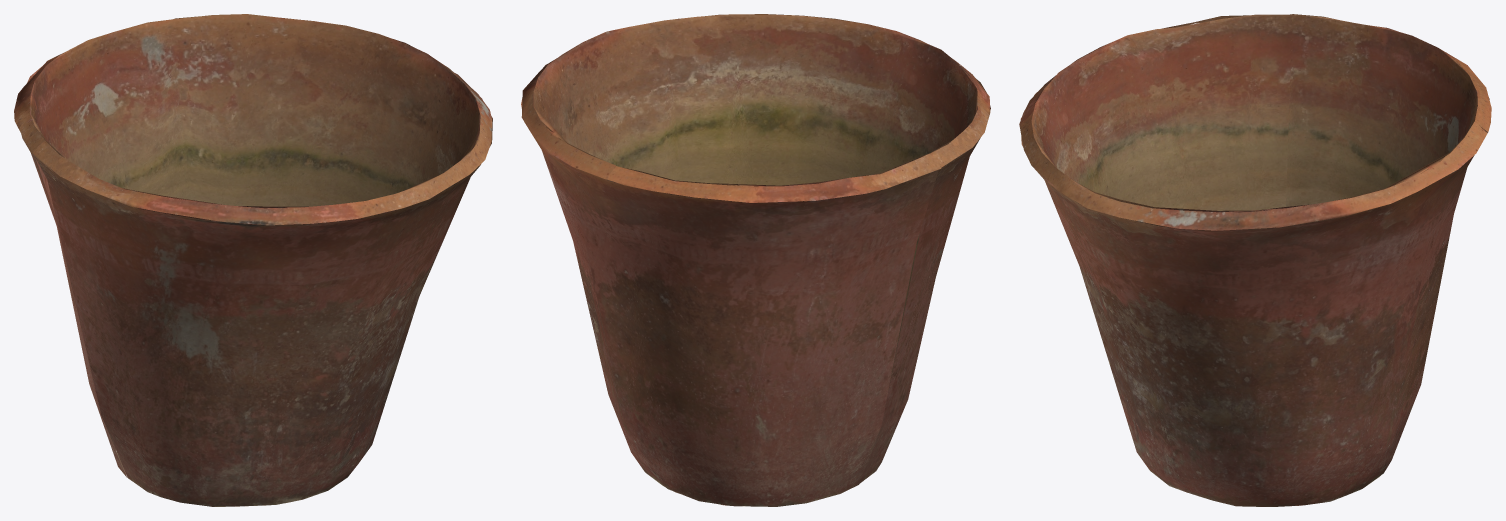
File: ClayPot.gltf
3 renders of one model, left to right at view 1: azimuth 30°, elevation 25°; view 2: azimuth 150°, elevation 25°; view 3: azimuth 270°, elevation 25°, orthographic.
Parts seen in each view (by area): view 1: ClayPot; view 2: ClayPot; view 3: ClayPot.
Part boxes in pixels (left/top/right/bottom): ClayPot: left=14, top=14, right=492, bottom=506; ClayPot: left=521, top=14, right=990, bottom=506; ClayPot: left=1019, top=14, right=1491, bottom=506.
Size of the model in its own units: 0.2674 by 0.2222 by 0.2646.
1 material, 1 textured.
